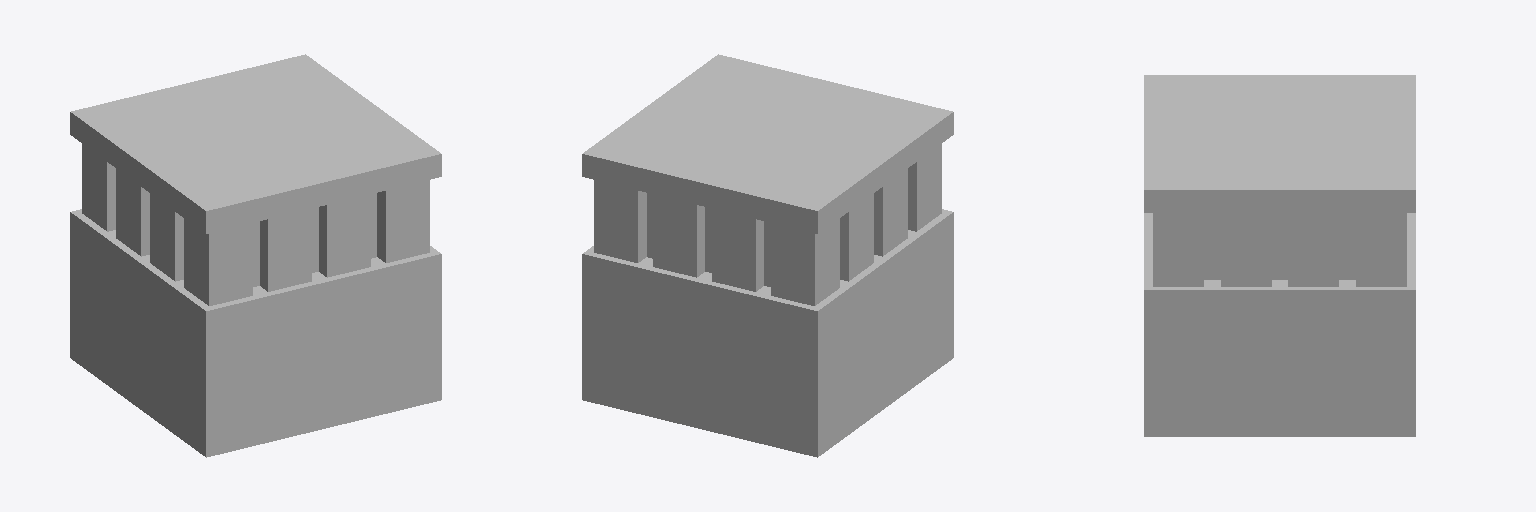
File: capacitron.obj
3 renders of one model, left to right at view 1: azimuth 30°, elevation 25°; view 2: azimuth 150°, elevation 25°; view 3: azimuth 270°, elevation 25°, orthographic.
Visible parts, largest first — view 1: base, roof, cell10, cell7, cell8, cell9, cell1, cell11, cell12, walls; view 2: base, roof, cell1, cell4, cell2, cell3, cell10, cell11, cell12, walls; view 3: base, roof, cell4, cell5, cell7, cell6, walls.
Boxes of the visible parts, x1,y1,x2,y2 form: base: [70, 209, 441, 457]; roof: [70, 54, 441, 233]; cell10: [184, 218, 252, 305]; cell7: [377, 180, 429, 262]; cell8: [319, 194, 370, 277]; cell9: [260, 209, 311, 291]; cell1: [82, 144, 115, 231]; cell11: [150, 194, 183, 281]; cell12: [116, 169, 149, 256]; walls: [253, 193, 376, 286]; base: [582, 209, 953, 457]; roof: [582, 54, 953, 233]; cell1: [771, 218, 839, 305]; cell4: [594, 180, 646, 262]; cell2: [712, 209, 763, 291]; cell3: [653, 194, 704, 277]; cell10: [908, 144, 941, 231]; cell11: [874, 169, 907, 256]; cell12: [840, 194, 873, 281]; walls: [647, 193, 770, 286]; base: [1144, 213, 1415, 436]; roof: [1144, 75, 1415, 212]; cell4: [1356, 213, 1406, 286]; cell5: [1288, 213, 1338, 286]; cell7: [1153, 213, 1203, 286]; cell6: [1221, 213, 1271, 286]; walls: [1204, 213, 1355, 279].
Size of the model in its own units: 2 by 2 by 2.